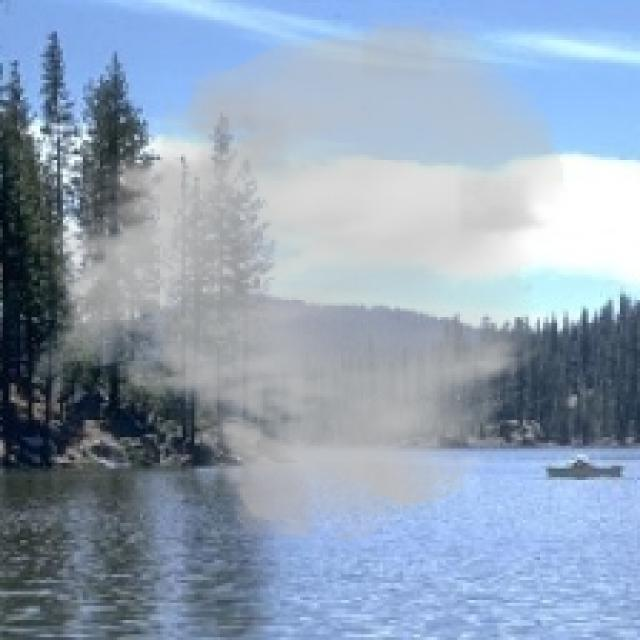Smoke: (29, 9, 568, 548)
